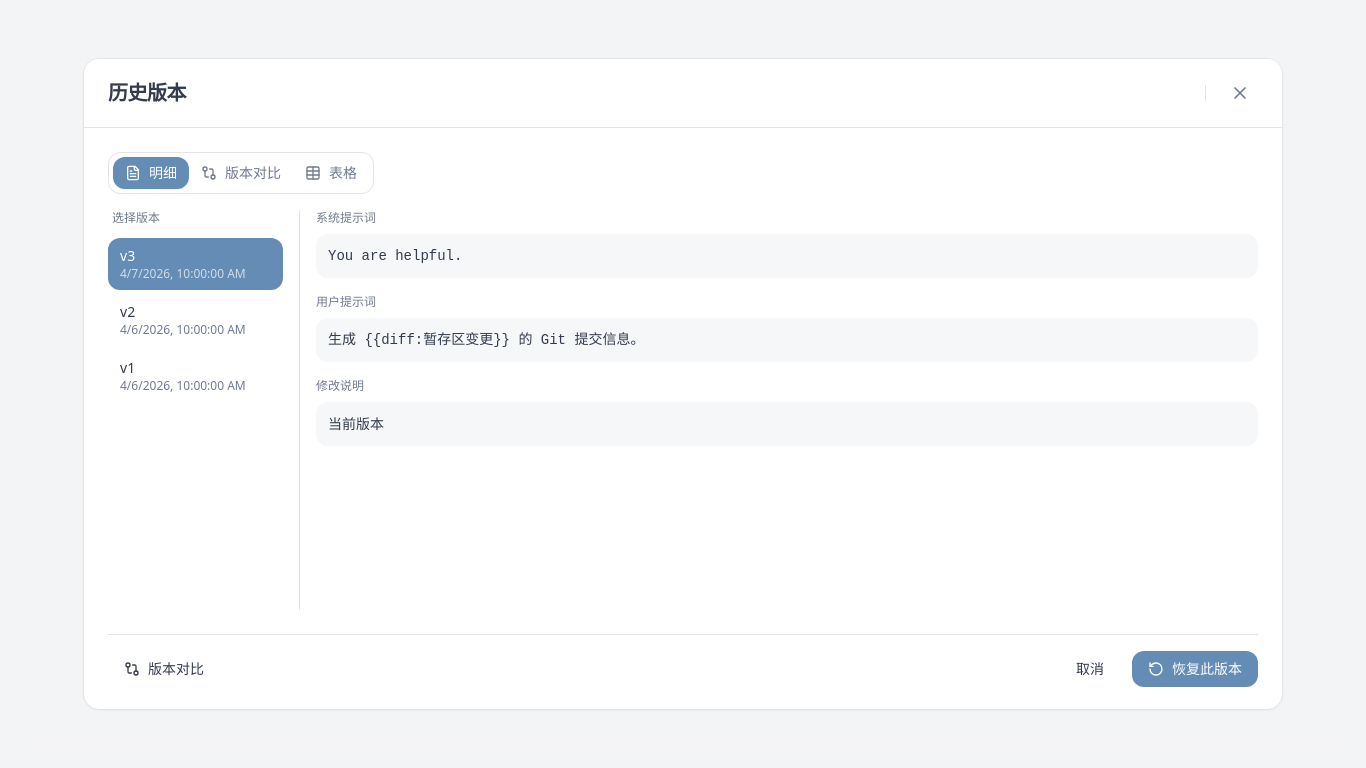
Test: VersionHistoryModal › derives table variables from each version prompt text when the variable snapshot is empty
Check: the text "当前版本" is shown, box [316, 402, 1258, 446]
Click the button "表格" at coordinates (331, 173), box [293, 157, 369, 189]
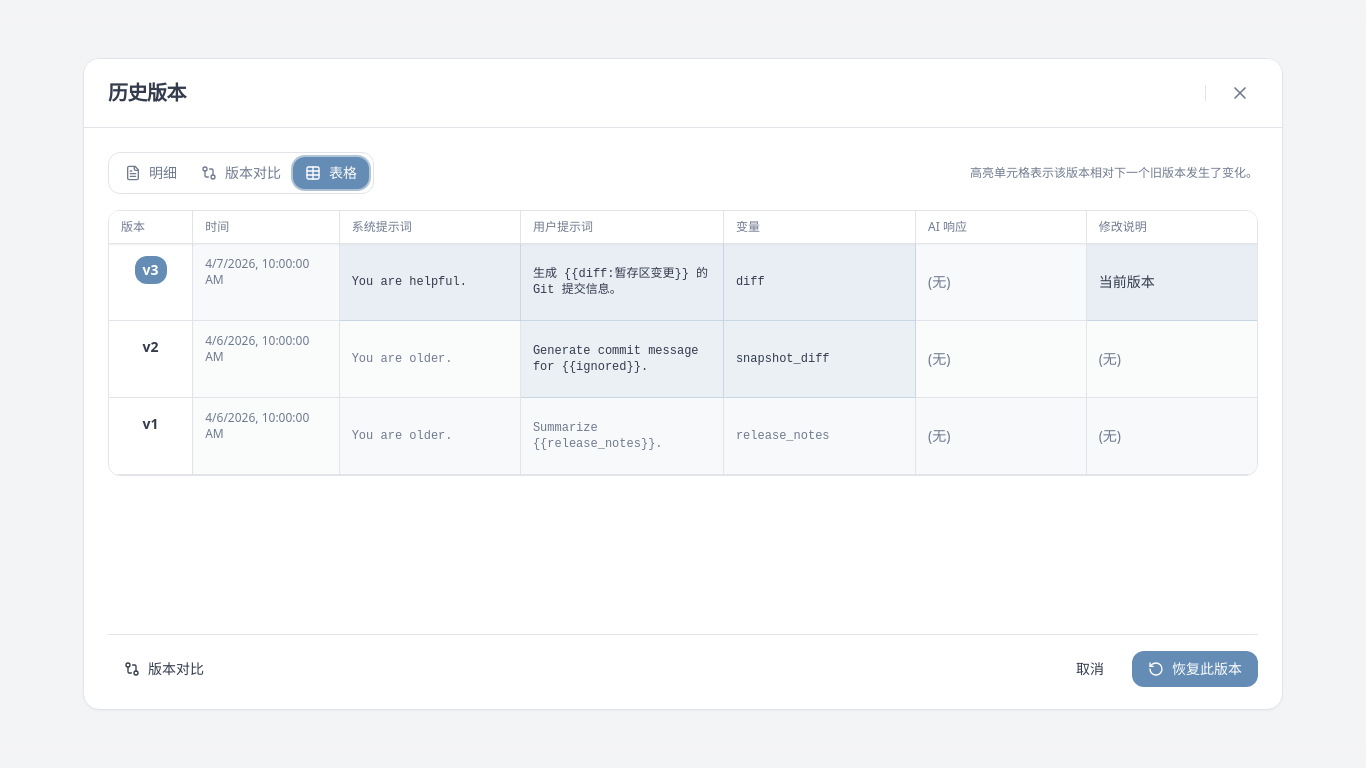
Check: the cell with test id "version-table-cell-current-variables" reads "diff", box [724, 244, 915, 320]
Check: the cell with test id "version-table-cell-v2-variables" reads "snapshot_diff", box [724, 321, 915, 397]
Check: the cell with test id "version-table-cell-v1-variables" reads "release_notes", box [724, 398, 915, 474]
